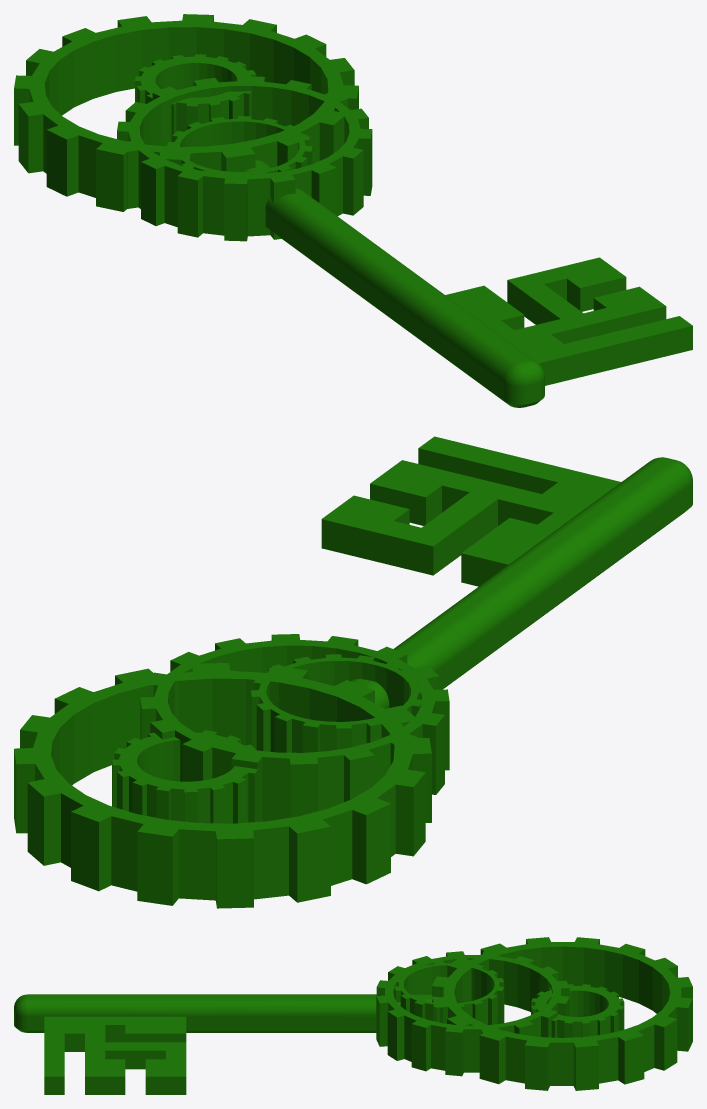
The model's file is Steampunk_Key1.stl.glb.
3 views of the same model, one above another, from view 1: azimuth 30°, elevation 25°; view 2: azimuth 150°, elevation 25°; view 3: azimuth 270°, elevation 25° (orthographic). The views are drawn at different scales.
Visible parts, largest first — view 1: Steampunk_Key1; view 2: Steampunk_Key1; view 3: Steampunk_Key1.
Boxes of the visible parts, x1=… form: Steampunk_Key1: x1=14, y1=14, x2=692, y2=407; Steampunk_Key1: x1=14, y1=436, x2=692, y2=908; Steampunk_Key1: x1=14, y1=937, x2=692, y2=1094.
Bounding box in the file's own units: 42.68 × 8.12 × 105.
